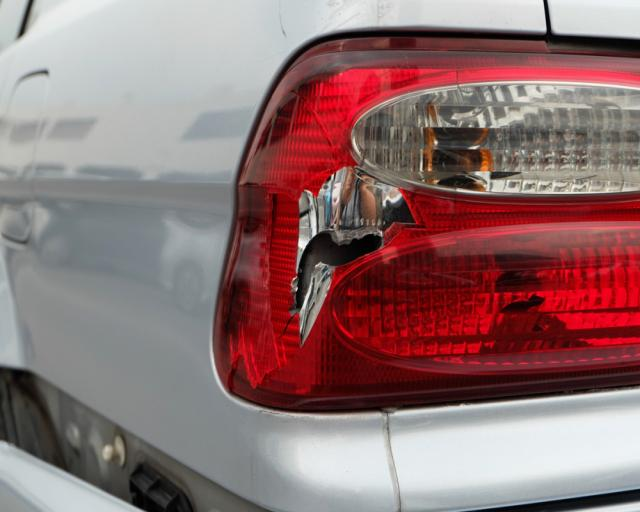lamp broken: (210, 33, 640, 412)
